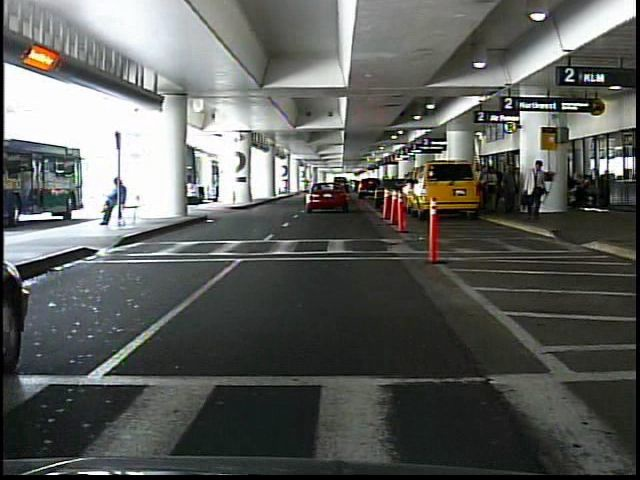person: (522, 158, 548, 217), (502, 163, 520, 219), (485, 166, 499, 211)
